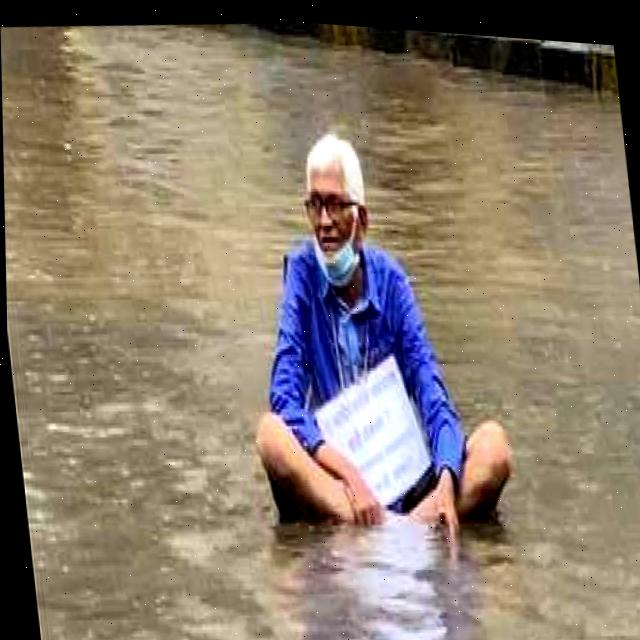civilian: (213, 111, 526, 547)
